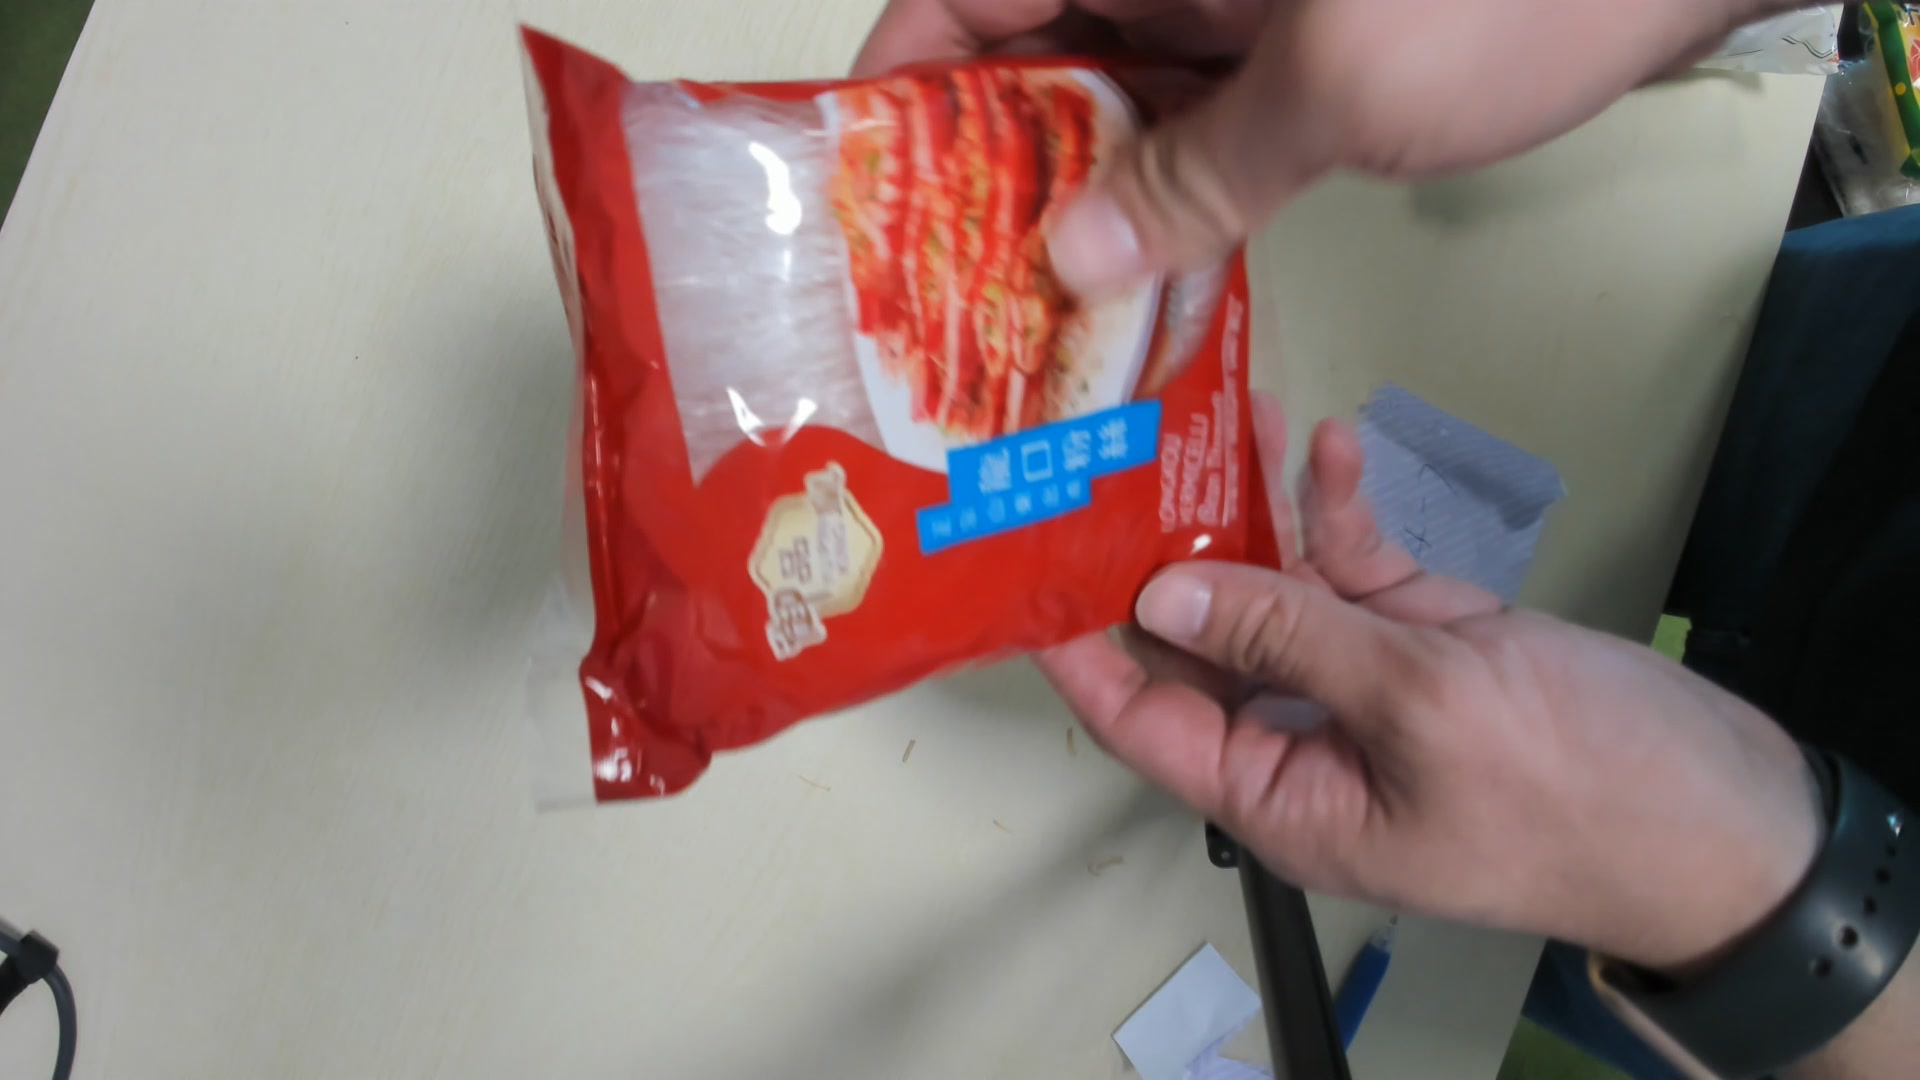BeeHoonVermicelli_100-199g_NonHalal_NonHealthy: (537, 40, 1304, 752)
